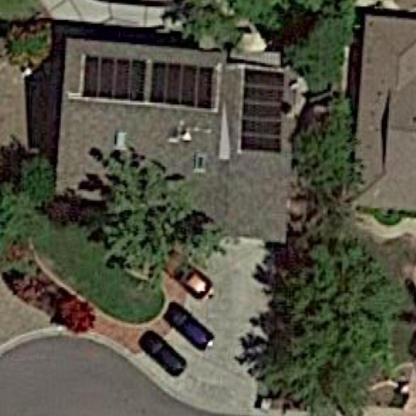car: (162, 244, 225, 304), (163, 299, 221, 350), (136, 328, 189, 380)
solar_panel: (238, 59, 288, 163), (75, 48, 149, 110), (151, 56, 221, 121)
